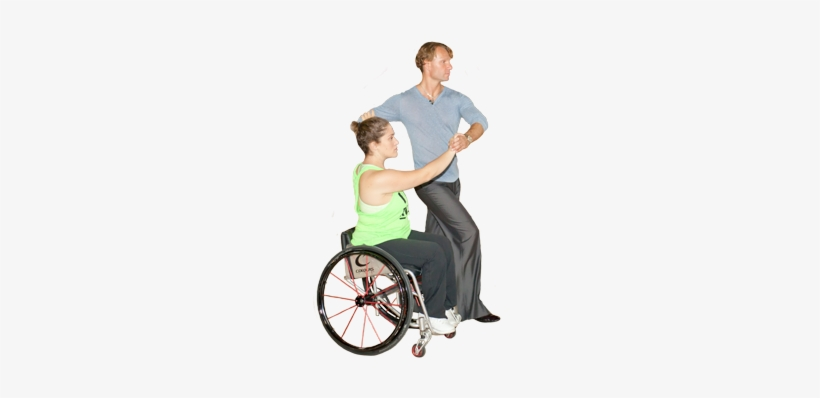wheelchair: (316, 118, 468, 358)
